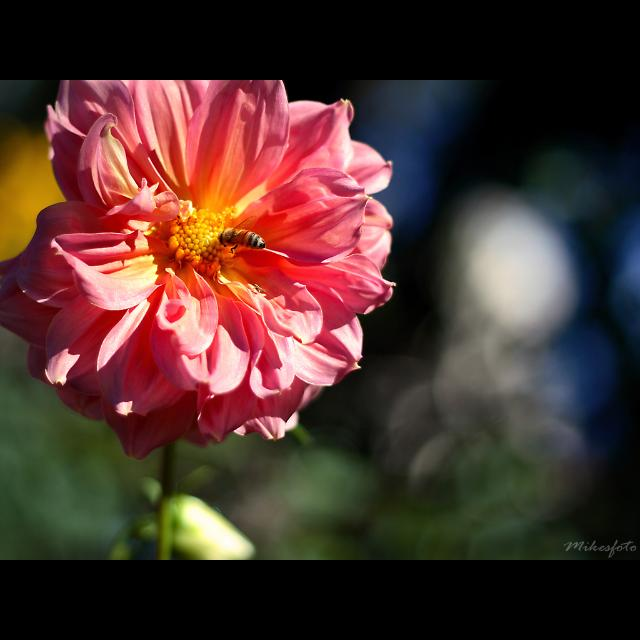Flower: (13, 92, 394, 470)
